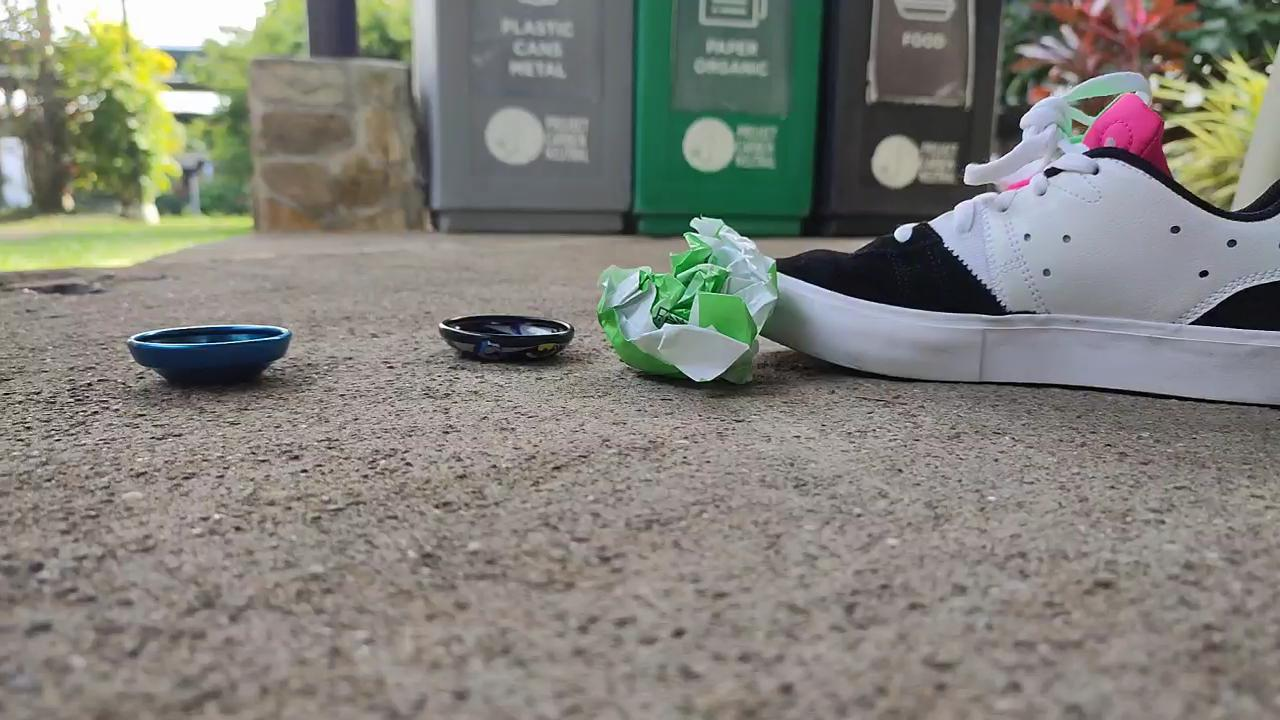Paper: (582, 199, 790, 395)
